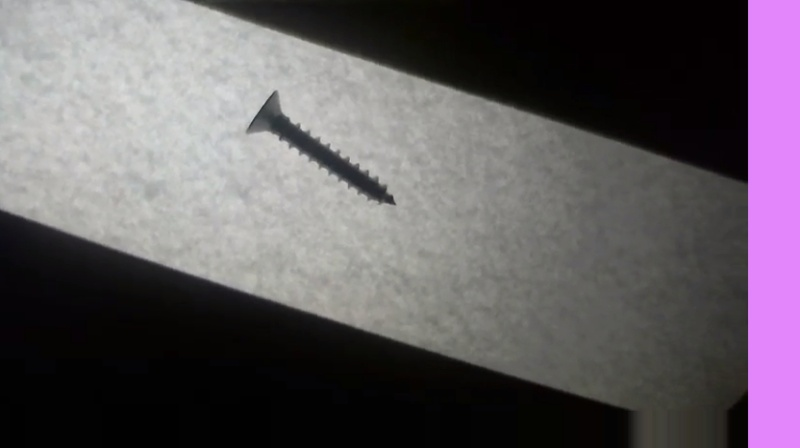S001: (242, 87, 397, 209)
